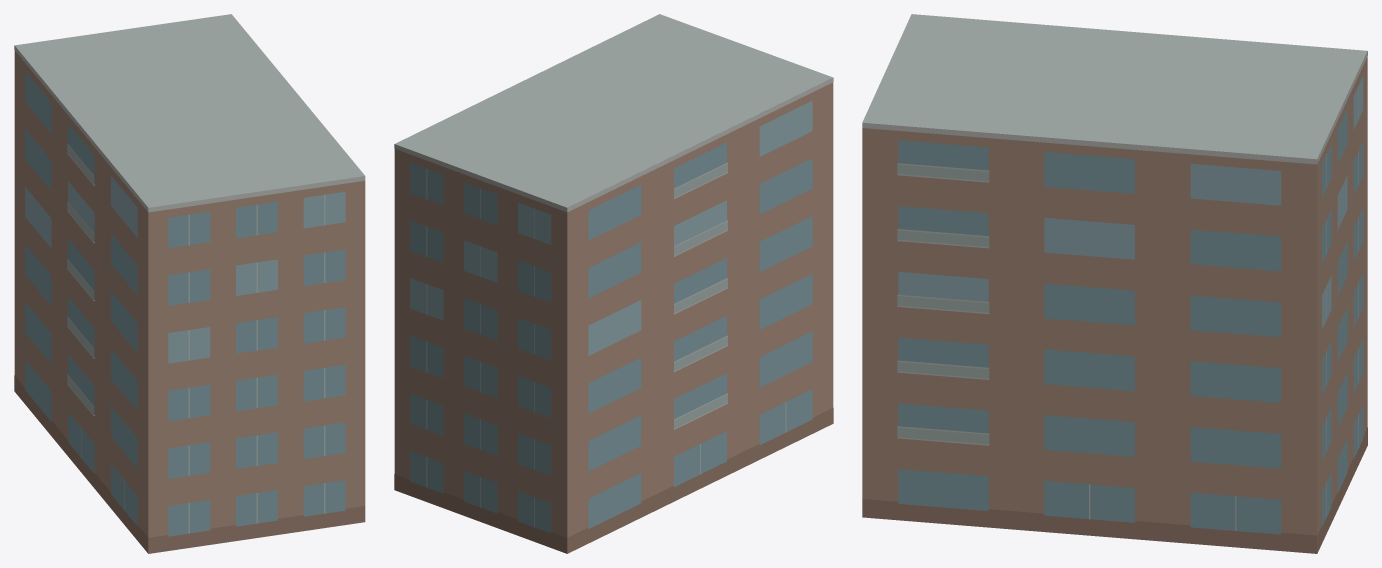
The model's file is survey-upis-32905578.glb.
3 views of the same model, side by side, from view 1: azimuth 30°, elevation 25°; view 2: azimuth 150°, elevation 25°; view 3: azimuth 270°, elevation 25° (orthographic). The views are drawn at different scales.
Parts seen in each view (by area): view 1: survey-upis-32905578.tmp; view 2: survey-upis-32905578.tmp; view 3: survey-upis-32905578.tmp.
Boxes of the visible parts, bbox=[...] form: survey-upis-32905578.tmp: bbox=[14, 14, 365, 553]; survey-upis-32905578.tmp: bbox=[394, 14, 833, 553]; survey-upis-32905578.tmp: bbox=[862, 14, 1367, 553].
Bounding box in the file's own units: 14.46 × 18.3 × 21.26.
